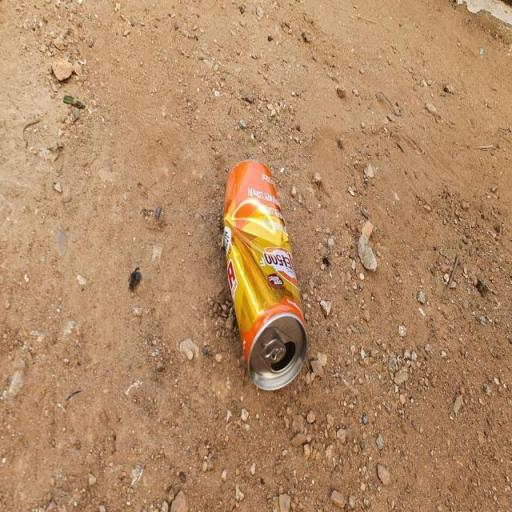metal: (212, 138, 320, 396)
